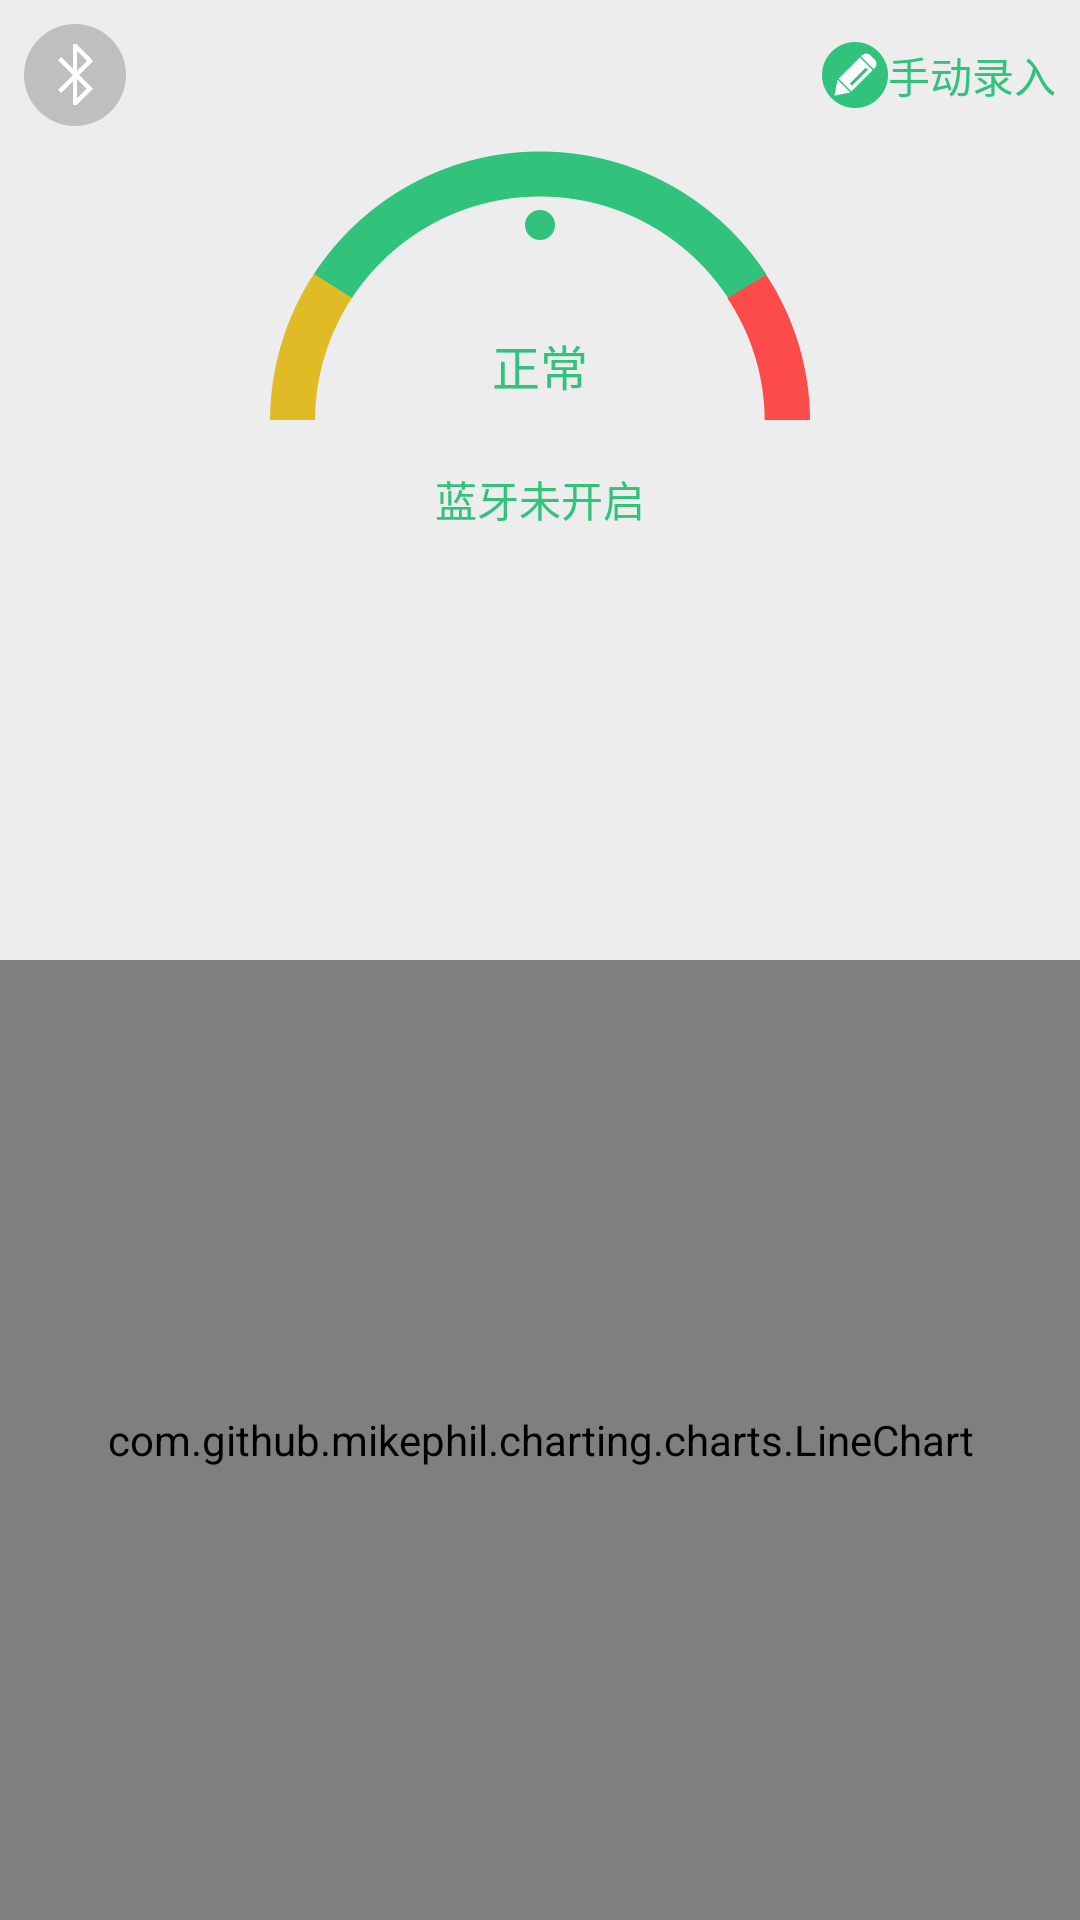

Icons on this 1080 x 1920 Android screen, each with the point to tap as (x=x, y=y):
entry: (x=855, y=75)
